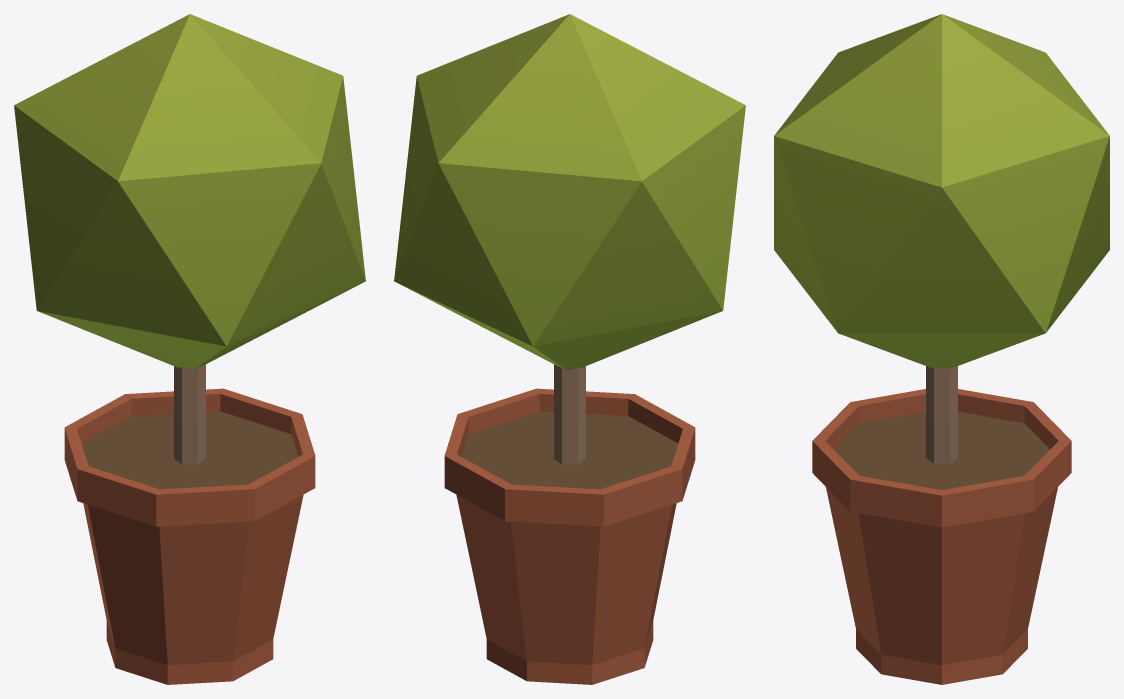
File: Pot_04.fbx
The picture shows the model from 3 angles, left to right: view 1: azimuth 30°, elevation 25°; view 2: azimuth 150°, elevation 25°; view 3: azimuth 270°, elevation 25°; orthographic projection.
Visible parts, largest first — view 1: Pot_04; view 2: Pot_04; view 3: Pot_04.
Boxes of the visible parts, <box> form: Pot_04: <box>14,14,365,684</box>; Pot_04: <box>394,14,745,684</box>; Pot_04: <box>774,14,1109,684</box>.
Size of the model in its own units: 52.83 by 105 by 50.25.
